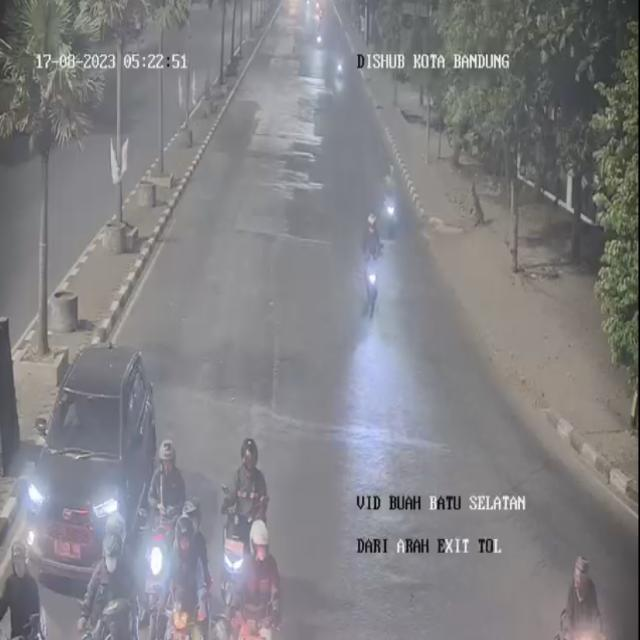cars: (28, 335, 156, 578)
motorcycle: (135, 433, 195, 621), (218, 432, 280, 600), (228, 516, 286, 638), (82, 512, 138, 636), (550, 554, 611, 640), (168, 506, 210, 608), (354, 208, 389, 330), (0, 536, 38, 638), (168, 578, 210, 639), (92, 599, 145, 640), (378, 154, 400, 249)
